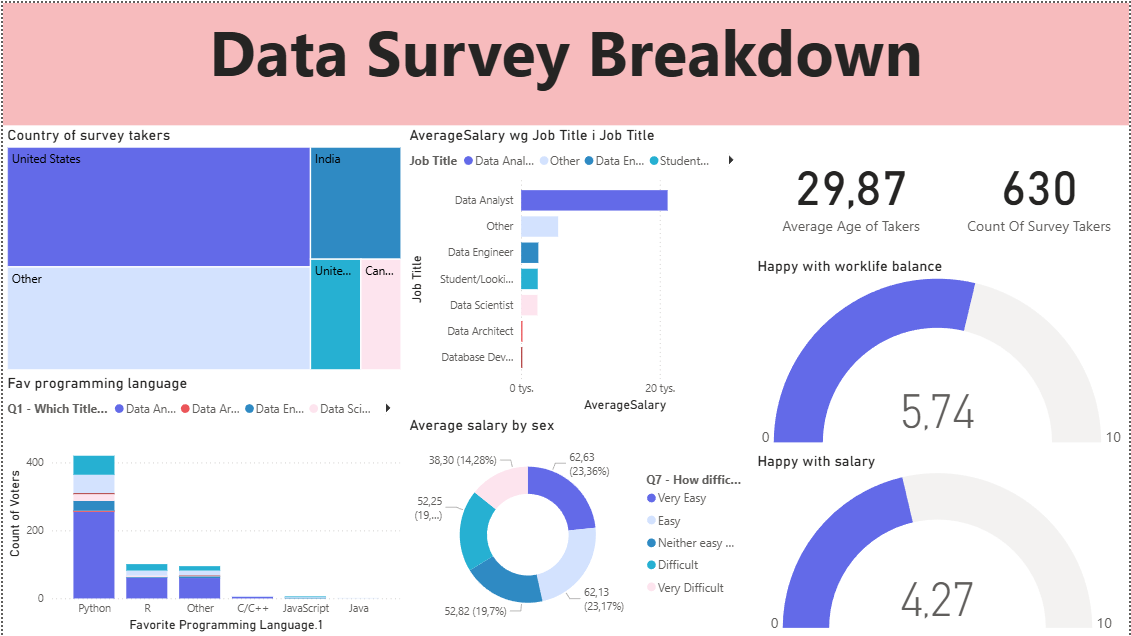

The dashboard page shown, as its layout file describes it:
{"tool":"powerbi","page":{"name":"Strona 1","canvas":[1280,720],"ordinal":0},"visuals":[{"type":"textbox","box":[0,0,1279.6,138.9],"z":0},{"type":"card","fields":{"Values":["Count(Data Professional Survey.Unique ID)"]},"box":[1075.4,139.3,204.9,149.2],"z":1000},{"type":"card","fields":{"Values":["Avg(Data Professional Survey.Q10 - Current Age)"]},"box":[852.5,139.3,223,149.2],"z":2000},{"type":"barChart","fields":{"Category":["Data Professional Survey.Q1 - Which Title Best Fits your Current Role?.1"],"Y":["Sum(Data Professional Survey.AverageSalary)"],"Series":["Data Professional Survey.Q1 - Which Title Best Fits your Current Role?.1"]},"box":[457.4,139.3,390.2,329.5],"z":3000},{"type":"columnChart","title":"Fav programming language","fields":{"Category":["Data Professional Survey.Q5 - Favorite Programming Language.1"],"Y":["CountNonNull(Data Professional Survey.Unique ID)"],"Series":["Data Professional Survey.Q1 - Which Title Best Fits your Current Role?.1"]},"box":[0,421.3,457.4,298.4],"z":4000},{"type":"treemap","title":"Country of survey takers","fields":{"Group":["Data Professional Survey.Q11 - Which Country do you live in?.1"],"Values":["CountNonNull(Data Professional Survey.Q11 - Which Country do you live in?.1)"]},"box":[0,139.3,457.4,282],"z":5000},{"type":"gauge","title":"Happy with salary","fields":{"Y":["Avg(Data Professional Survey.Q6 - How Happy are you in your Current Position with the following? (Salary))"],"MinValue":["Min(Data Professional Survey.Q6 - How Happy are you in your Current Position with the following? (Salary))"],"MaxValue":["Max(Data Professional Survey.Q6 - How Happy are you in your Current Position with the following? (Salary))"]},"box":[852.5,509.8,427.9,209.8],"z":6000},{"type":"gauge","title":"Happy with worklife balance","fields":{"Y":["Avg(Data Professional Survey.Q6 - How Happy are you in your Current Position with the following? (Work/Life Balance))"],"MinValue":["Min(Data Professional Survey.Q6 - How Happy are you in your Current Position with the following? (Work/Life Balance))"],"MaxValue":["Max(Data Professional Survey.Q6 - How Happy are you in your Current Position with the following? (Work/Life Balance))1"]},"box":[852.5,288.5,427.9,221.3],"z":7000},{"type":"donutChart","title":"Average salary by sex","fields":{"Category":["Data Professional Survey.Q7 - How difficult was it for you to break into Data?"],"Y":["Avg(Data Professional Survey.AverageSalary)"]},"box":[457.4,468.9,395.1,250.8],"z":8000}]}

Visuals, with their boxes in screenshot pixels (x1, y1, x2, y2), scaled from the page's 1280x720 canvas onto the 1131x636 screenshot:
textbox: (left=0, top=0, right=1130, bottom=123)
card - Count(Data Professional Survey.Unique ID): (left=950, top=123, right=1130, bottom=255)
card - Avg(Data Professional Survey.Q10 - Current Age): (left=753, top=123, right=950, bottom=255)
barChart - Data Professional Survey.Q1 - Which Title Best Fits your Current Role?.1 x Sum(Data Professional Survey.AverageSalary): (left=404, top=123, right=749, bottom=414)
"Fav programming language" columnChart: (left=0, top=372, right=404, bottom=635)
"Country of survey takers" treemap: (left=0, top=123, right=404, bottom=372)
"Happy with salary" gauge: (left=753, top=450, right=1130, bottom=635)
"Happy with worklife balance" gauge: (left=753, top=255, right=1130, bottom=450)
"Average salary by sex" donutChart: (left=404, top=414, right=753, bottom=635)
